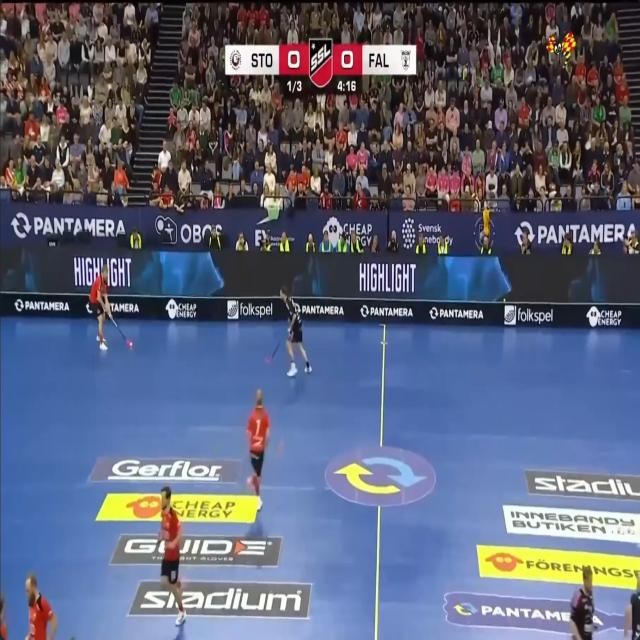player: (159, 485, 186, 626), (280, 285, 311, 377), (247, 390, 269, 509), (25, 575, 57, 639), (89, 263, 111, 350), (569, 567, 593, 639), (624, 577, 640, 639), (0, 594, 7, 639)
